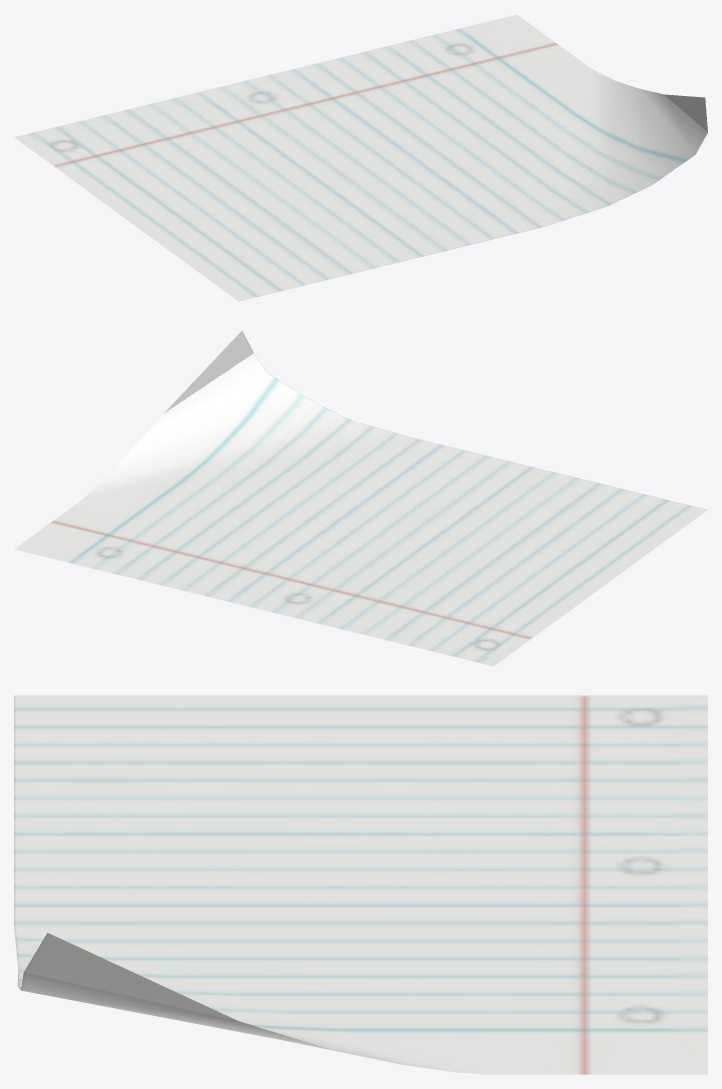
File: paper-white-empty.glb
3 views of the same model, one above another, from view 1: azimuth 30°, elevation 25°; view 2: azimuth 150°, elevation 25°; view 3: azimuth 270°, elevation 25° (orthographic). The views are drawn at different scales.
Visible parts, largest first — view 1: PaperWhiteEmpty; view 2: PaperWhiteEmpty; view 3: PaperWhiteEmpty.
Part boxes in pixels (<box>): PaperWhiteEmpty: <box>14,14,707,301</box>; PaperWhiteEmpty: <box>14,331,707,666</box>; PaperWhiteEmpty: <box>14,695,707,1074</box>.
Bounding box in the file's own units: 0.2029 × 0.0306 × 0.1568.
Materials: 1 (1 with a texture image).
